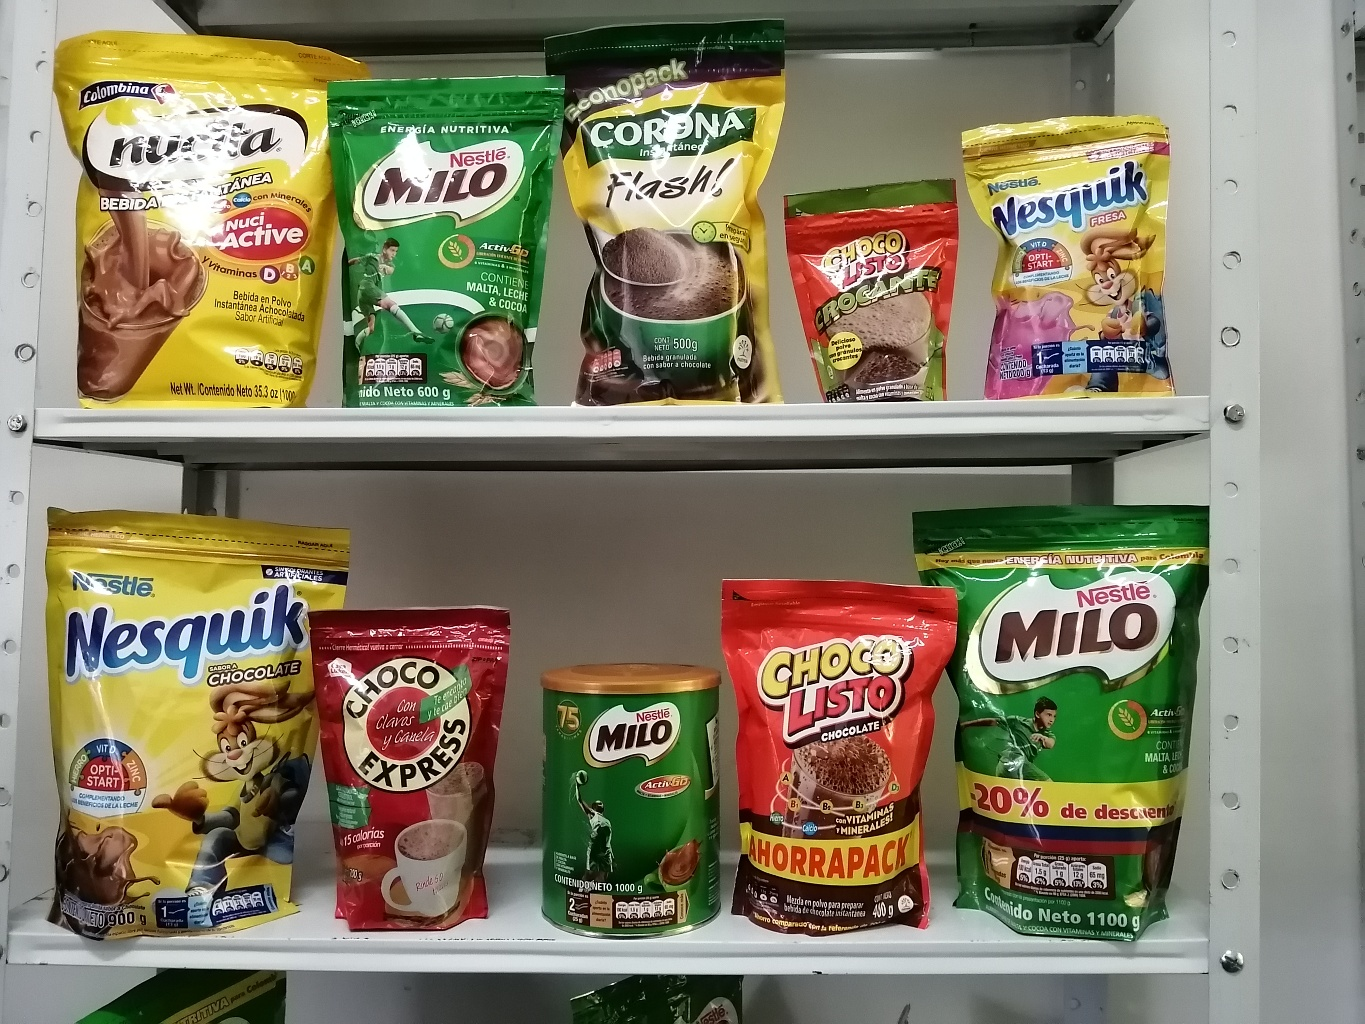COL0170102DYP10000: (781, 173, 965, 399)
COL0170103DYP40000: (733, 571, 972, 928)
COL0170305DYP20000: (971, 109, 1204, 404)
